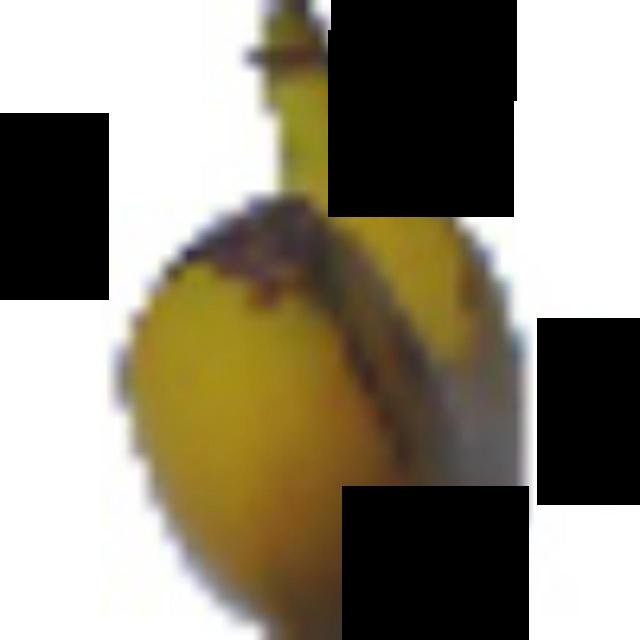banana: (134, 0, 531, 634)
